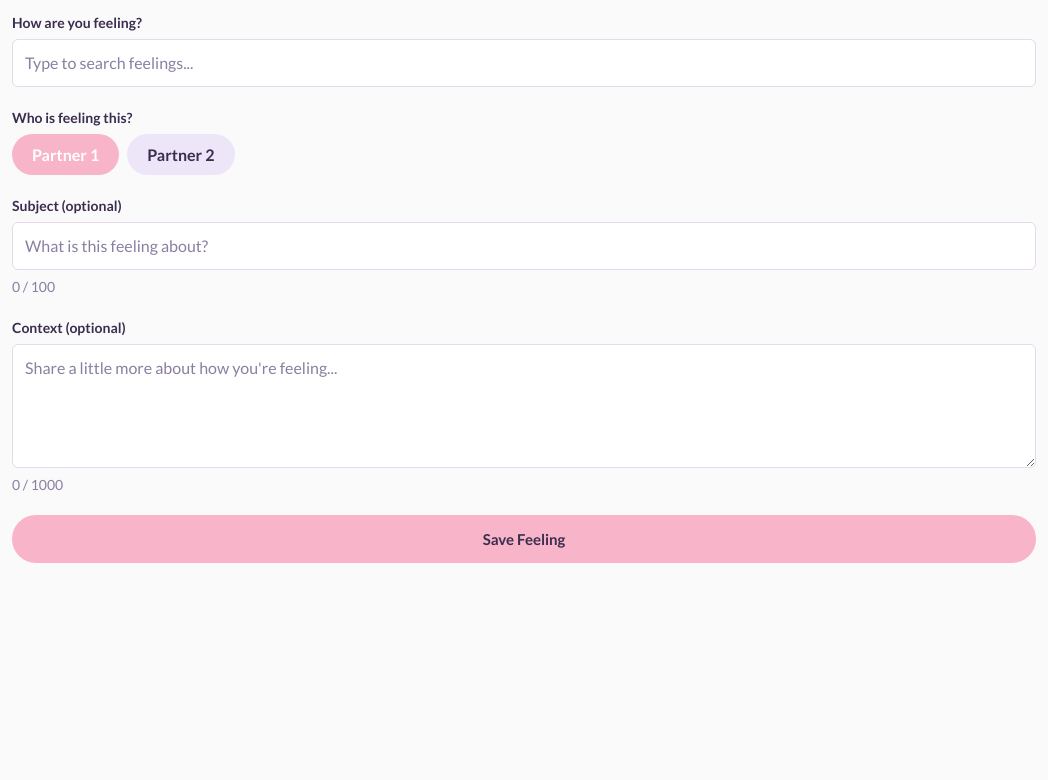
Test: FeelingForm › shows a validation error when submitting without a feeling selected
// Submit without selecting a feeling
Click the button "Save Feeling". click: (524, 539)
box: [12, 515, 1036, 563]
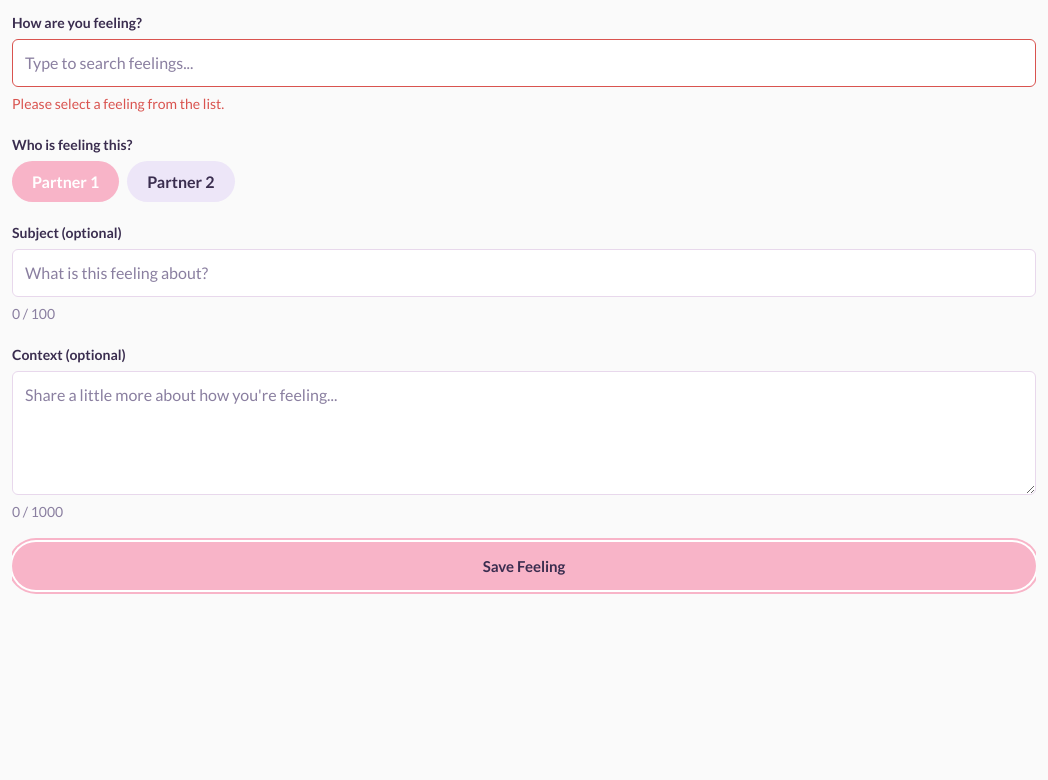
Check: the message shows "Please select a feeling", box [12, 95, 224, 112]
